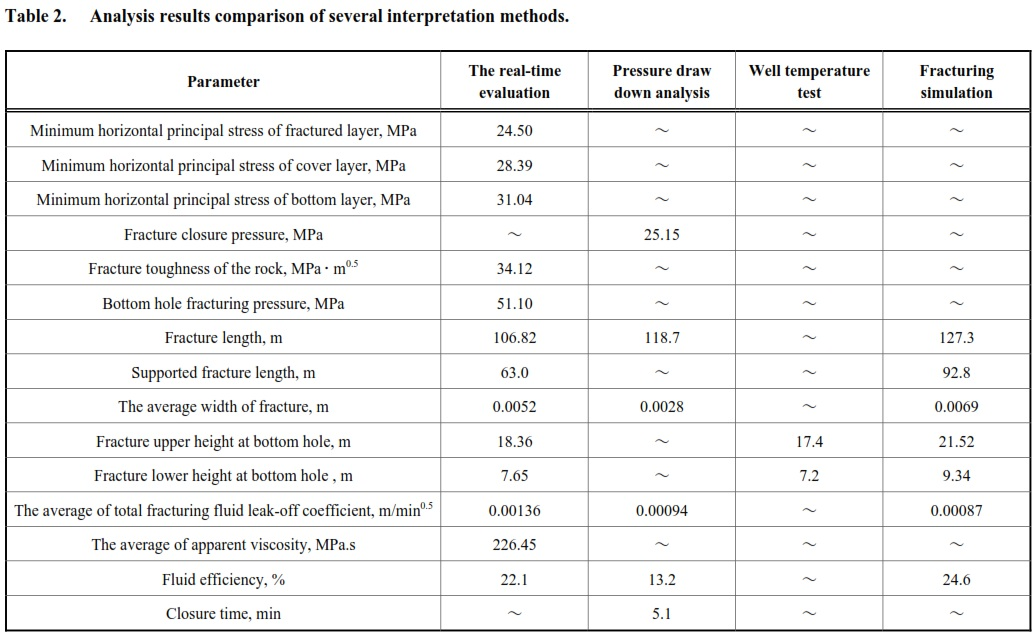fracking table: (3, 1, 1035, 634)
